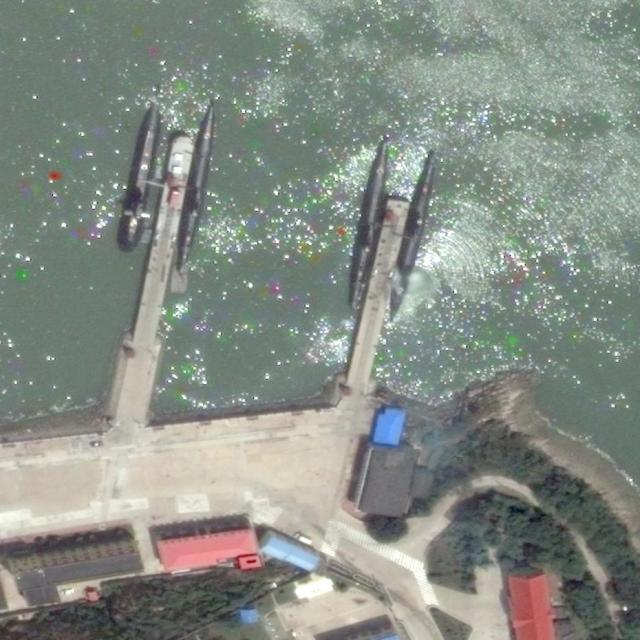Submarine: (378, 146, 444, 326), (339, 136, 397, 312), (171, 98, 220, 279), (114, 101, 169, 253)
